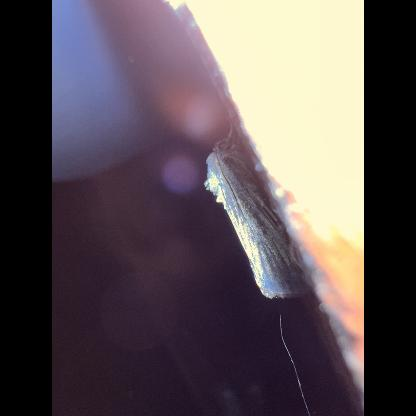Fall Armyworm Moth: (200, 113, 322, 305)
